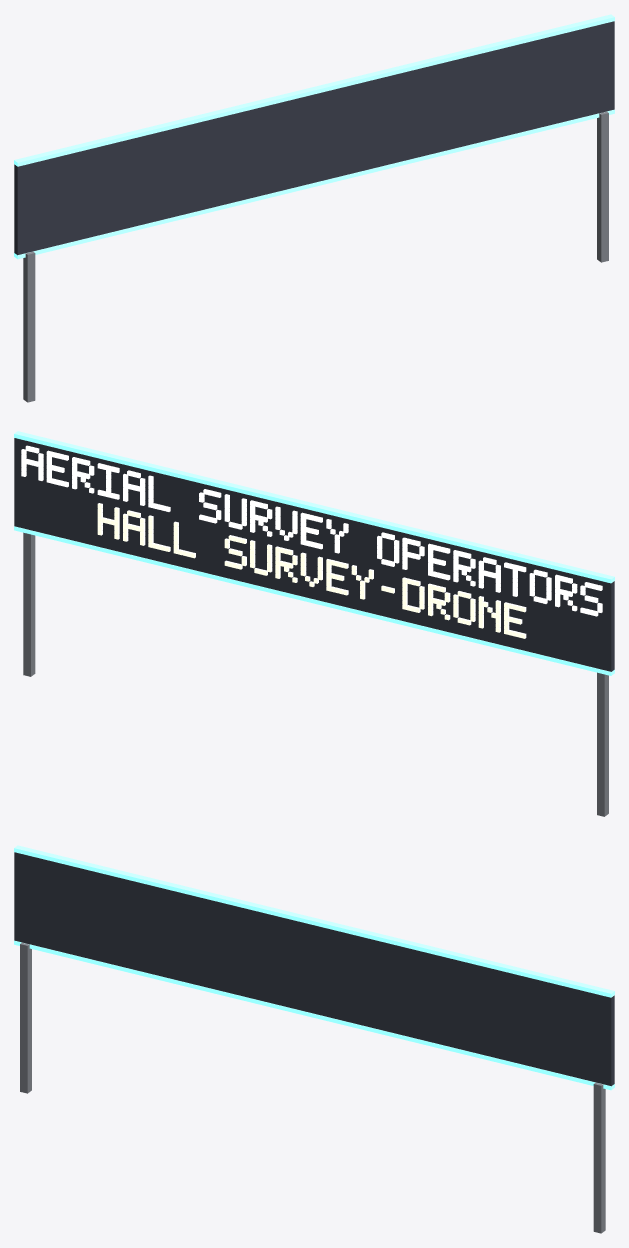
The model's file is wing-sign-hall-survey-drone.glb.
3 views of the same model, one above another, from view 1: azimuth 30°, elevation 25°; view 2: azimuth 150°, elevation 25°; view 3: azimuth 330°, elevation 25° (orthographic).
Parts seen in each view (by area): view 1: Sign · Aerial Survey Operators; view 2: Sign · Aerial Survey Operators; view 3: Sign · Aerial Survey Operators.
Part boxes in pixels (x1,y1,x2,y2): Sign · Aerial Survey Operators: (14,14,614,402); Sign · Aerial Survey Operators: (14,431,614,816); Sign · Aerial Survey Operators: (14,845,614,1233).
Size of the model in its own units: 12.69 by 4.88 by 0.254.
